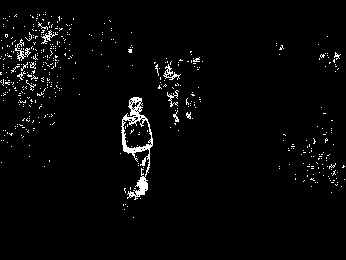person: (121, 95, 156, 200)
